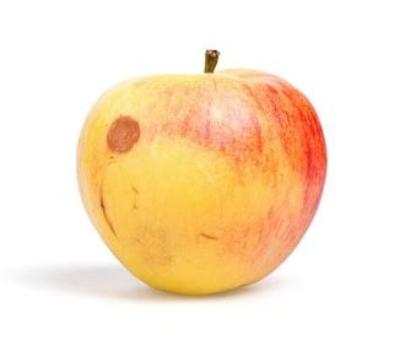defect: (83, 102, 154, 242)
